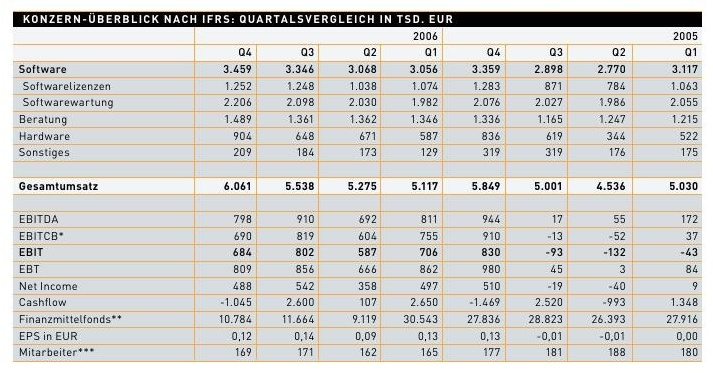table: (0, 0, 713, 373)
